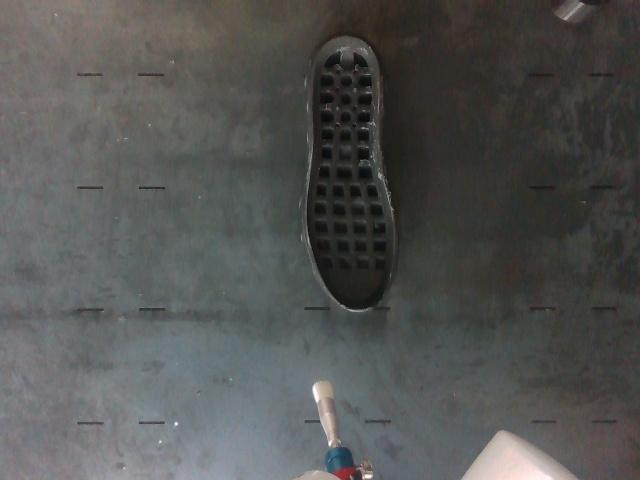shoes: (307, 36, 394, 310)
